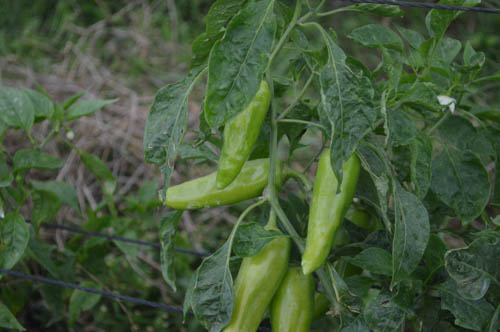ChiliPepper: (301, 141, 363, 282), (218, 227, 296, 332), (215, 73, 276, 200), (152, 152, 281, 210), (269, 260, 322, 332)
